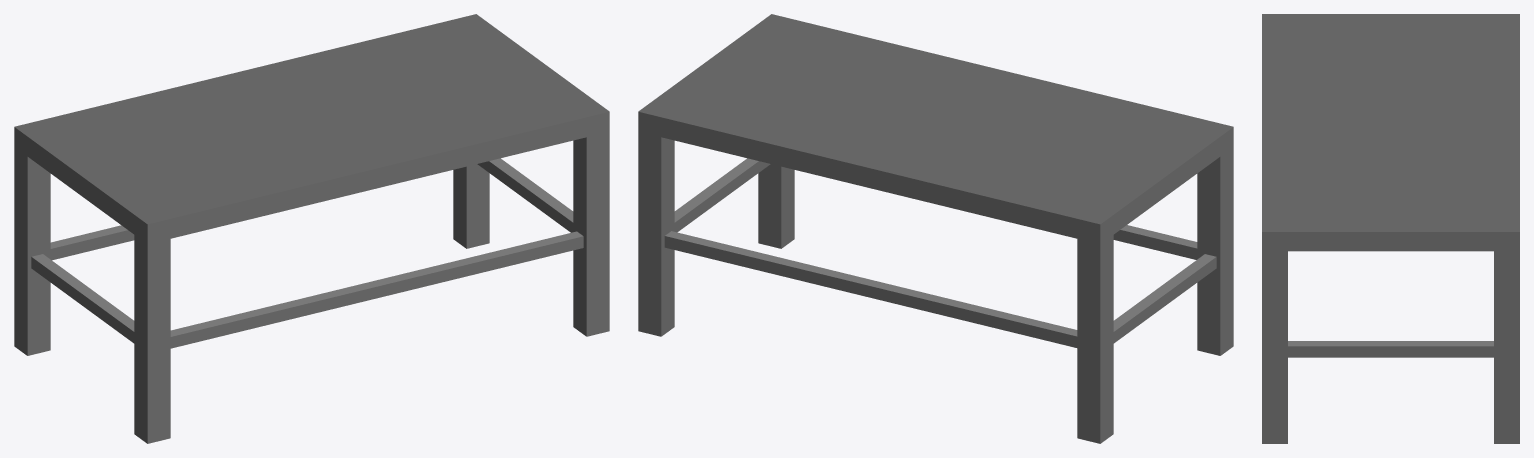
The model's file is tablemetal01.obj.
3 renders of one model, left to right at view 1: azimuth 30°, elevation 25°; view 2: azimuth 150°, elevation 25°; view 3: azimuth 270°, elevation 25°, orthographic. The views are drawn at different scales.
Visible parts, largest first — view 1: Cube.001; view 2: Cube.001; view 3: Cube.001.
Boxes of the visible parts, box(x1,y1,x2,y2) form: Cube.001: box(14, 14, 609, 443); Cube.001: box(638, 14, 1233, 443); Cube.001: box(1262, 14, 1519, 443).
Bounding box in the file's own units: 2 × 0.9078 × 1.
